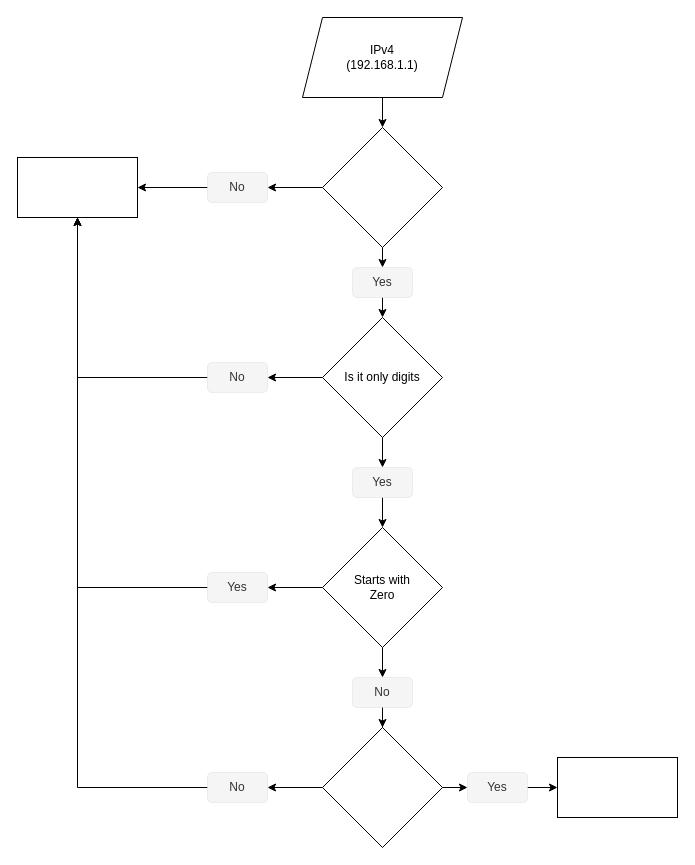
The diagram is 695 pixels wide and 865 high, and some of its shapes have lost their labels. The shapes that lost their labels are listed below. From the top down, each one's centre as x and y in pixels, then its label:
the point at 77,187: Invalid IP
the point at 382,187: Has 4 Octets
the point at 382,787: Is the numbers between 0 and 255
the point at 617,787: Valid IP
